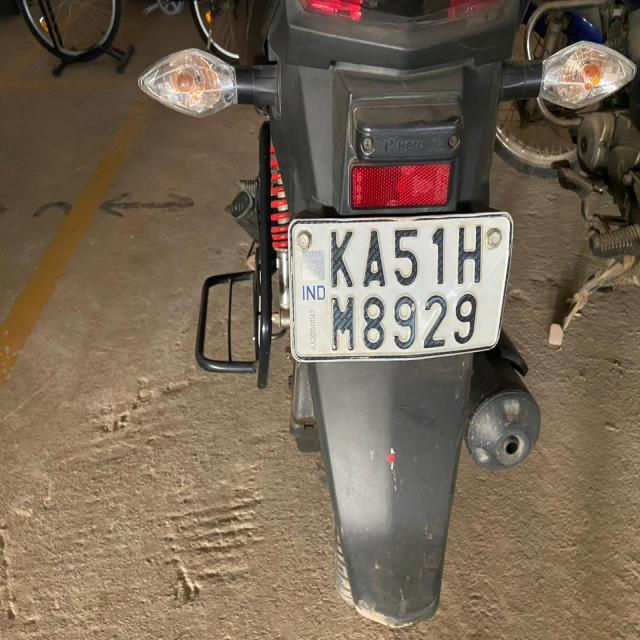1: (428, 223, 452, 288)
5: (392, 222, 424, 288)
8: (360, 290, 386, 352)
9: (390, 292, 422, 354), (451, 285, 481, 348)
A: (359, 223, 392, 297)
H: (454, 223, 488, 288)
K: (322, 223, 357, 289)
M: (329, 290, 358, 353)
